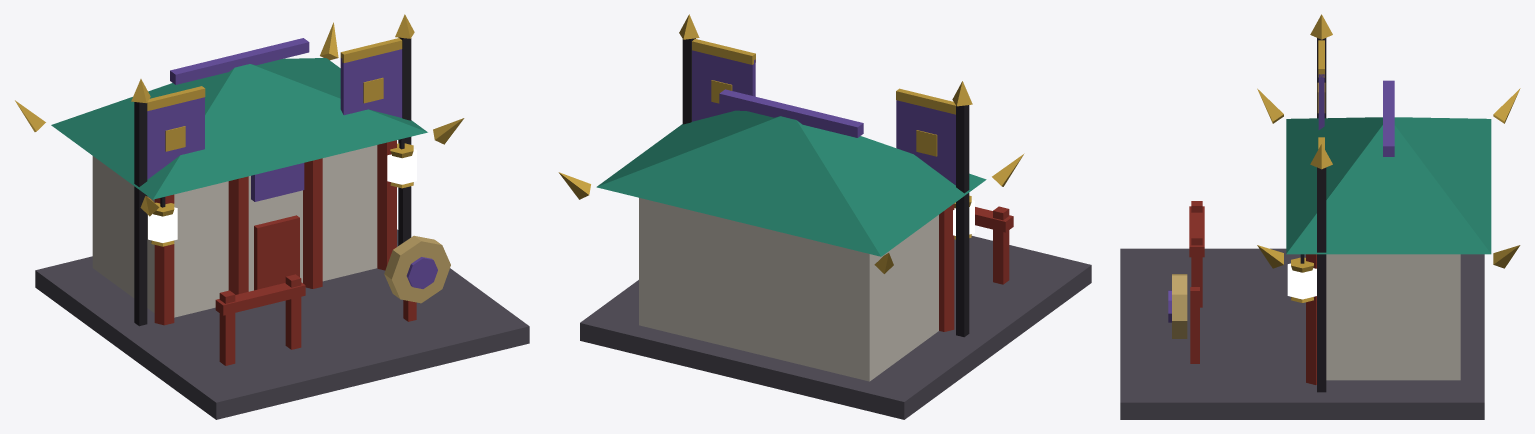
Rendered from camp_sniper_t2.glb.
3 views of the same model, side by side, from view 1: azimuth 30°, elevation 25°; view 2: azimuth 150°, elevation 25°; view 3: azimuth 270°, elevation 25° (orthographic). The views are drawn at different scales.
Parts seen in each view (by area): view 1: body, glow; view 2: body; view 3: body, glow.
Boxes of the visible parts, bbox=[...] form: body: bbox=[15, 14, 529, 419]; glow: bbox=[148, 149, 416, 242]; body: bbox=[558, 14, 1091, 419]; body: bbox=[1120, 14, 1520, 419]; glow: bbox=[1287, 263, 1316, 299].
Size of the model in its own units: 1.94 by 1.52 by 2.09.
